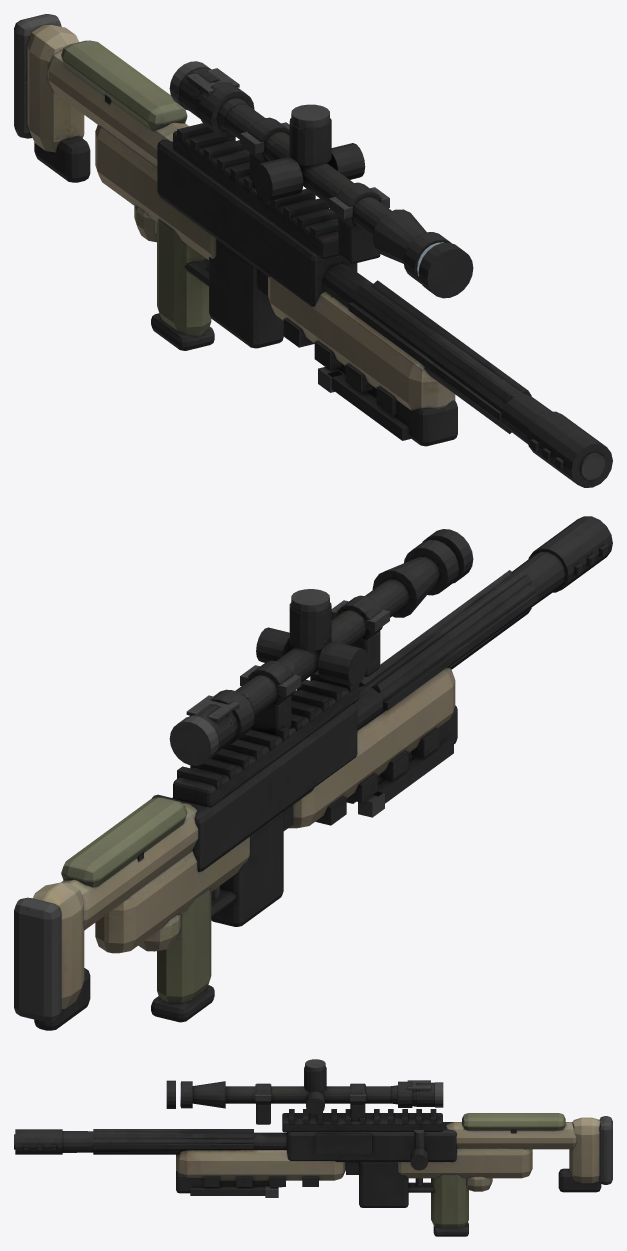
Rendered from sniper.glb.
The picture shows the model from 3 angles, top to bottom: view 1: azimuth 30°, elevation 25°; view 2: azimuth 150°, elevation 25°; view 3: azimuth 270°, elevation 25°; orthographic projection. The views are drawn at different scales.
Parts seen in each view (by area): view 1: Shell_m, Bipod_m; view 2: Shell_m, Bipod_m; view 3: Shell_m, Bipod_m, Bolt_m.
Part boxes in pixels (x1,y1,x2,y2): Shell_m: [14, 14, 612, 487]; Bipod_m: [318, 367, 457, 446]; Shell_m: [14, 516, 612, 1030]; Bipod_m: [358, 705, 457, 817]; Shell_m: [14, 1059, 612, 1236]; Bipod_m: [176, 1170, 278, 1197]; Bolt_m: [410, 1129, 428, 1170].
Bounding box in the file's own units: 0.139 × 0.3971 × 1.27.
4 materials, 3 textured.
